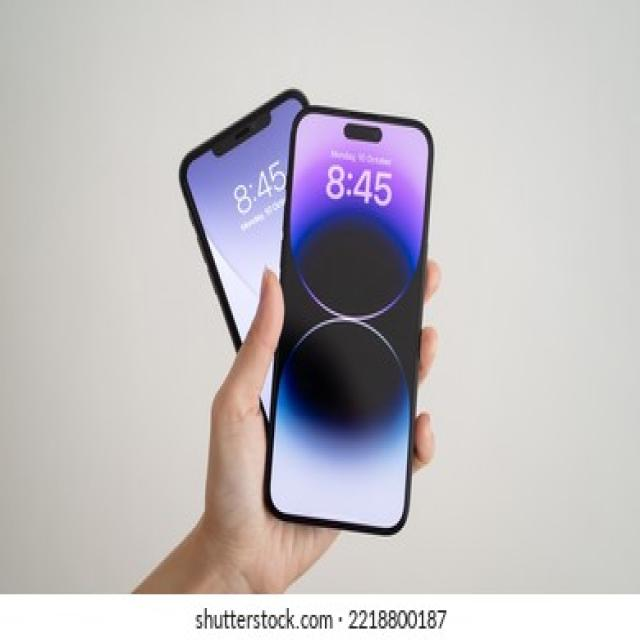mobile_phone: (259, 87, 453, 545)
